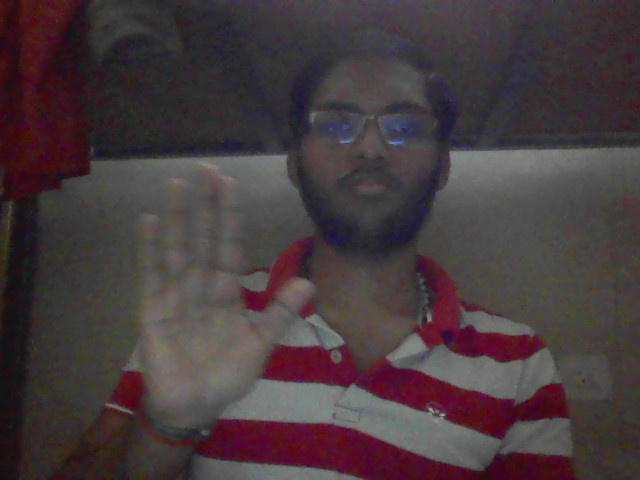Hi: (126, 157, 309, 461)
